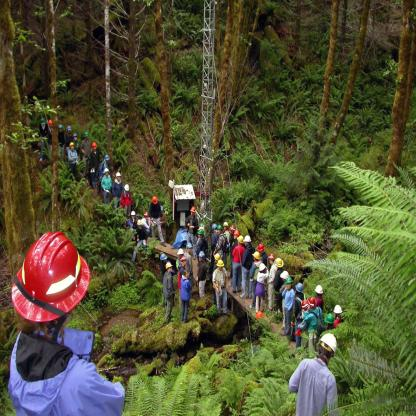Helmet: (12, 239, 84, 330), (319, 332, 337, 355), (306, 296, 317, 308), (325, 314, 336, 326), (274, 257, 284, 270), (300, 298, 308, 312), (279, 270, 290, 280), (334, 304, 343, 315), (159, 253, 168, 263), (251, 252, 261, 261), (295, 283, 303, 294), (259, 262, 268, 271), (315, 284, 324, 293), (256, 311, 266, 319), (186, 240, 194, 249), (258, 244, 266, 253), (266, 251, 274, 260), (286, 276, 294, 285), (124, 184, 131, 193), (196, 229, 205, 236), (198, 250, 205, 259), (214, 252, 220, 262), (115, 170, 122, 178), (166, 262, 173, 270), (180, 256, 188, 263), (233, 229, 240, 237), (244, 235, 252, 242), (152, 196, 158, 205), (190, 207, 197, 214), (229, 225, 236, 232), (218, 260, 226, 266), (237, 235, 243, 243), (105, 154, 110, 163), (66, 124, 72, 131), (130, 209, 136, 216), (143, 212, 150, 218), (177, 249, 184, 255), (217, 224, 224, 230), (58, 122, 62, 131), (73, 133, 79, 139), (103, 166, 109, 172), (223, 221, 229, 227), (40, 118, 45, 125), (137, 219, 142, 226), (161, 204, 165, 212), (212, 222, 216, 230), (47, 119, 52, 125), (84, 130, 89, 136), (92, 142, 97, 147), (68, 142, 74, 146)
